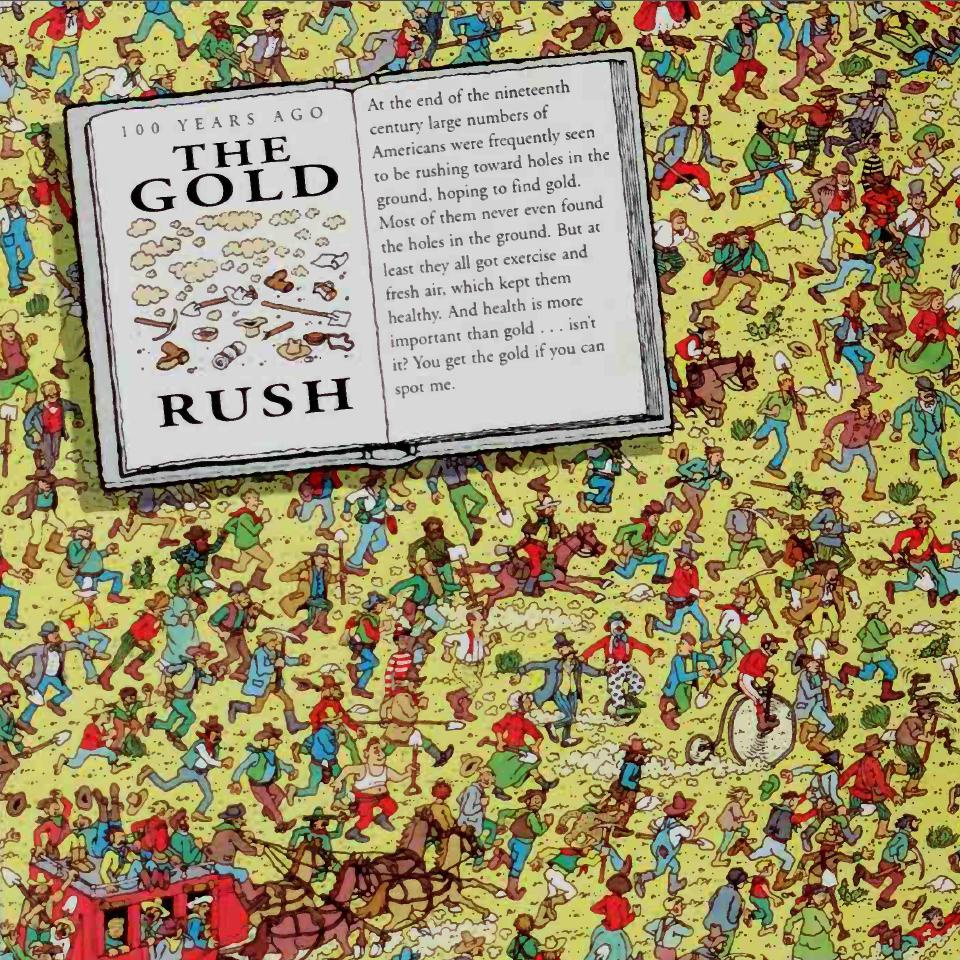waldo: (383, 624, 416, 695)
